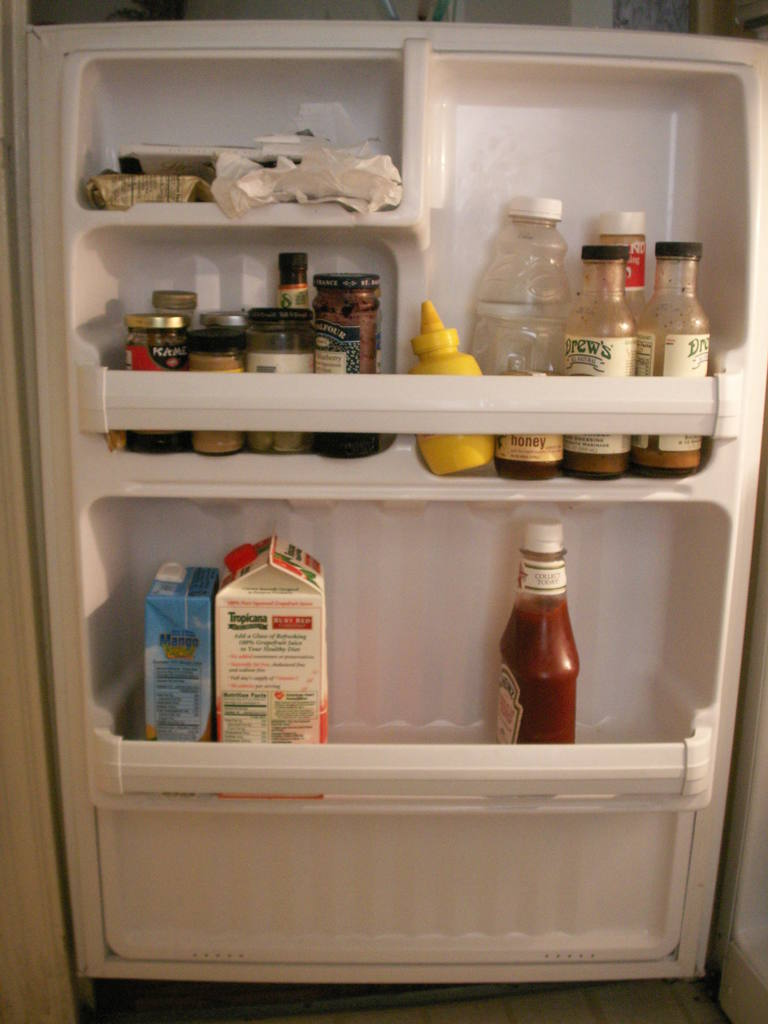refrigerator door: (37, 31, 698, 936)
